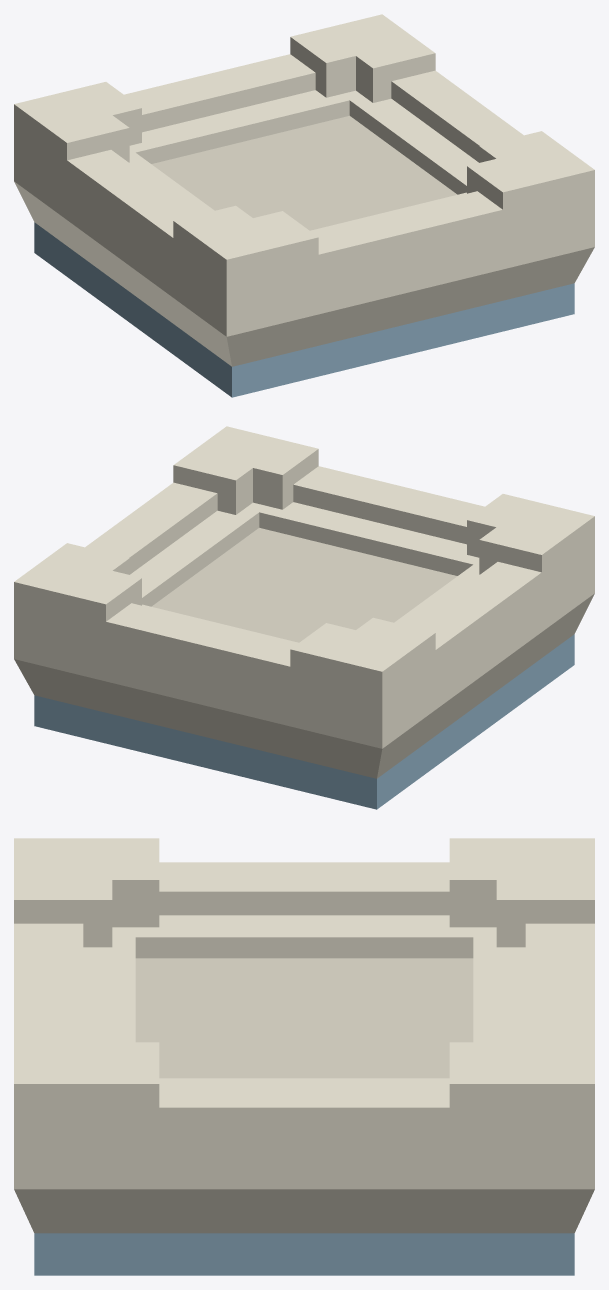
The model's file is towerSquareTopColor.glb.
3 renders of one model, top to bottom at view 1: azimuth 30°, elevation 25°; view 2: azimuth 150°, elevation 25°; view 3: azimuth 270°, elevation 25°, orthographic. The views are drawn at different scales.
Visible parts, largest first — view 1: towerSquareTopColor; view 2: towerSquareTopColor; view 3: towerSquareTopColor.
Part boxes in pixels (left/top/right/bottom): towerSquareTopColor: left=14, top=14, right=594, bottom=397; towerSquareTopColor: left=14, top=426, right=594, bottom=809; towerSquareTopColor: left=14, top=838, right=594, bottom=1275.
Size of the model in its own units: 10 by 3.8 by 10.
